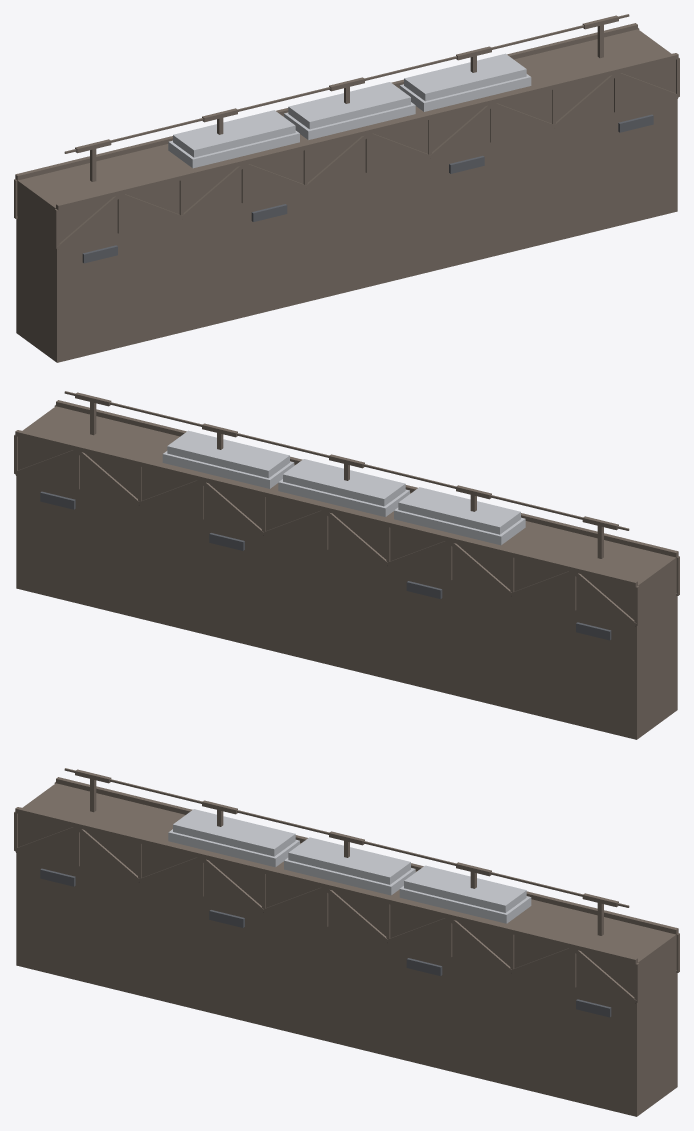
File: transit_spine.glb
The picture shows the model from 3 angles, top to bottom: view 1: azimuth 30°, elevation 25°; view 2: azimuth 150°, elevation 25°; view 3: azimuth 330°, elevation 25°; orthographic projection.
Parts seen in each view (by area): view 1: transit_spine-col, transit_spine_LOD0; view 2: transit_spine-col, transit_spine_LOD0; view 3: transit_spine-col, transit_spine_LOD0.
Part boxes in pixels (x1,y1,x2,y2): transit_spine-col: (16,29,677,362); transit_spine_LOD0: (14,14,679,263); transit_spine-col: (16,406,677,739); transit_spine_LOD0: (14,391,679,640); transit_spine-col: (16,783,677,1116); transit_spine_LOD0: (14,768,679,1017).
Size of what is drawn, in the model's own units: 44.22 by 12.88 by 5.4.
